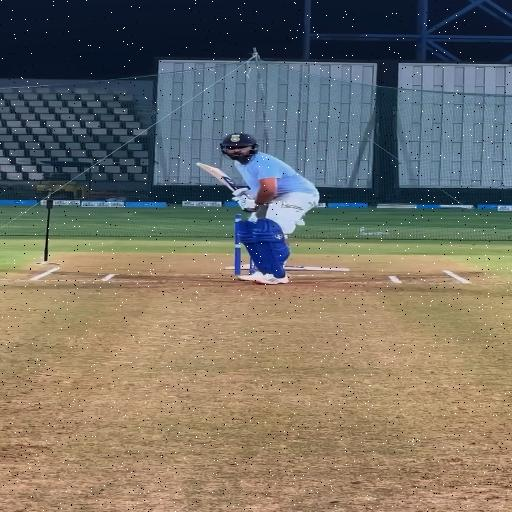Cricket bat: (196, 162, 240, 192)
